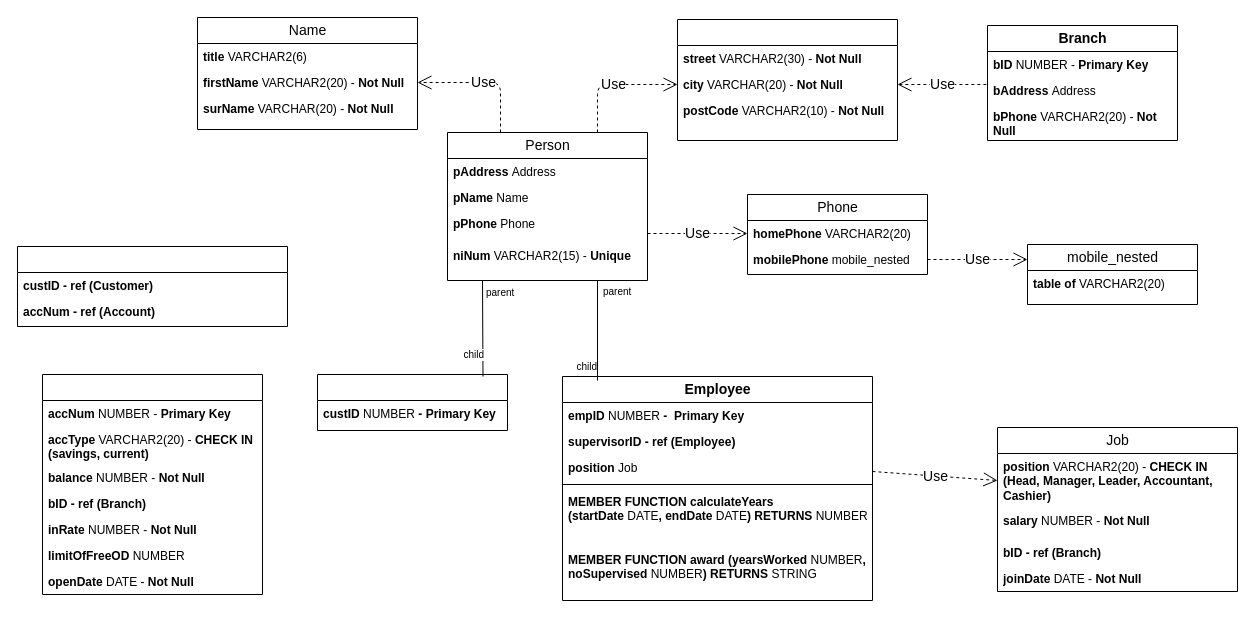
Some shapes in this 1255 by 618 pixel diagram are drawn without their labels. Each missing label, with the box of its shape:
Account: (42, 374, 262, 594)
Address: (676, 18, 898, 140)
Customer: (316, 374, 508, 430)
CustomerAccount: (16, 246, 288, 326)
